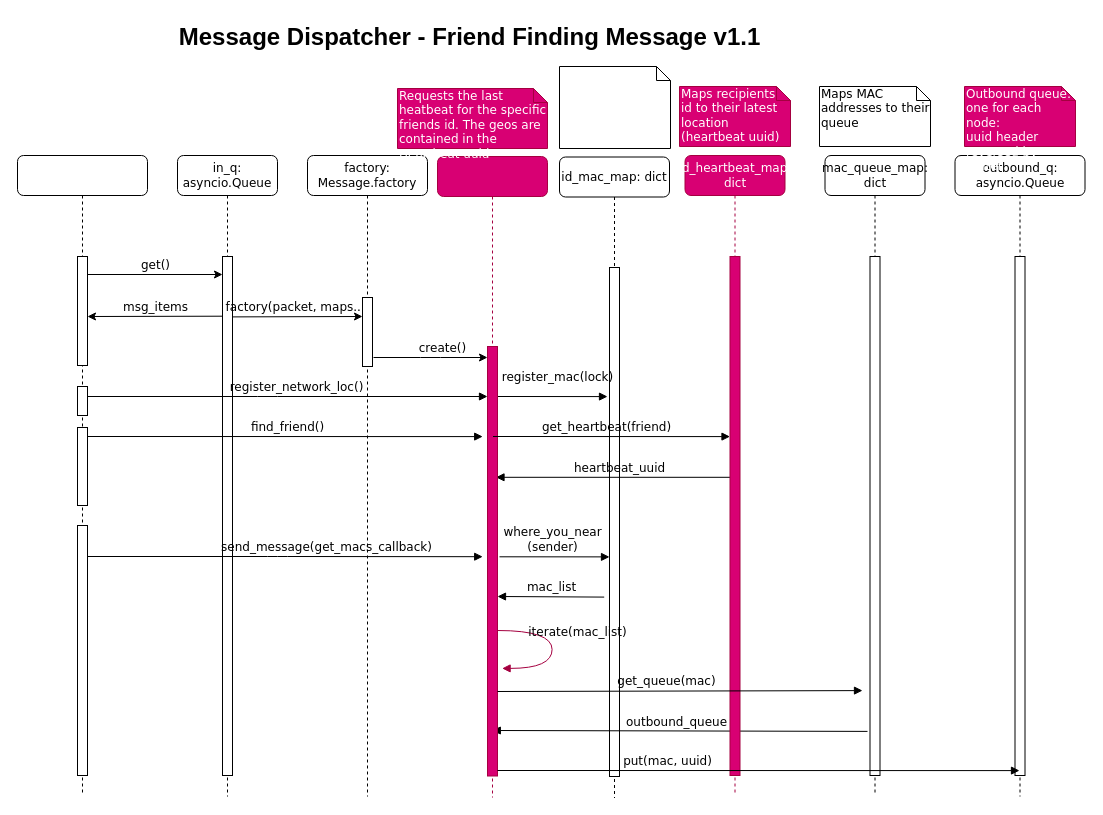
This 1103x815 diagram has some shape labels left out. The box of each missing label's shape, as (x1, y1, x2, y2) in pixels:
find_msg: Message: (436, 156, 548, 798)
Maps senders to Mac addresses that heard them with signal strength and timestamp: (558, 66, 670, 148)
message_dispatcher: asyncio.Task: (16, 154, 148, 796)
